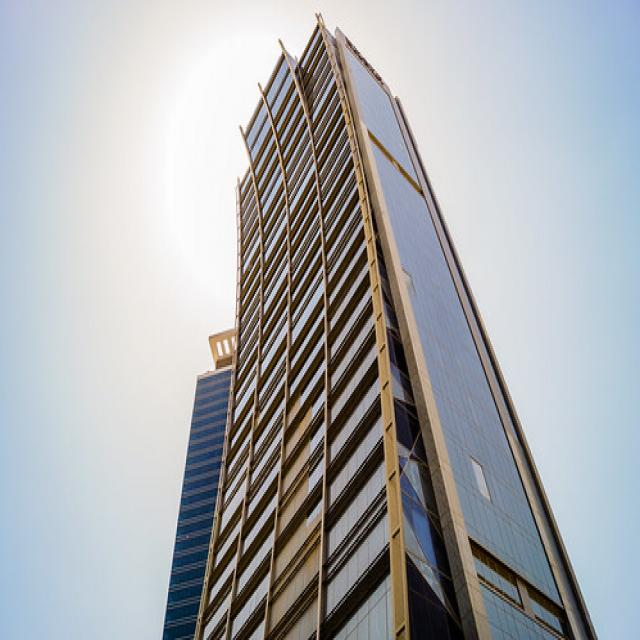Normal_building: (153, 11, 600, 640)
